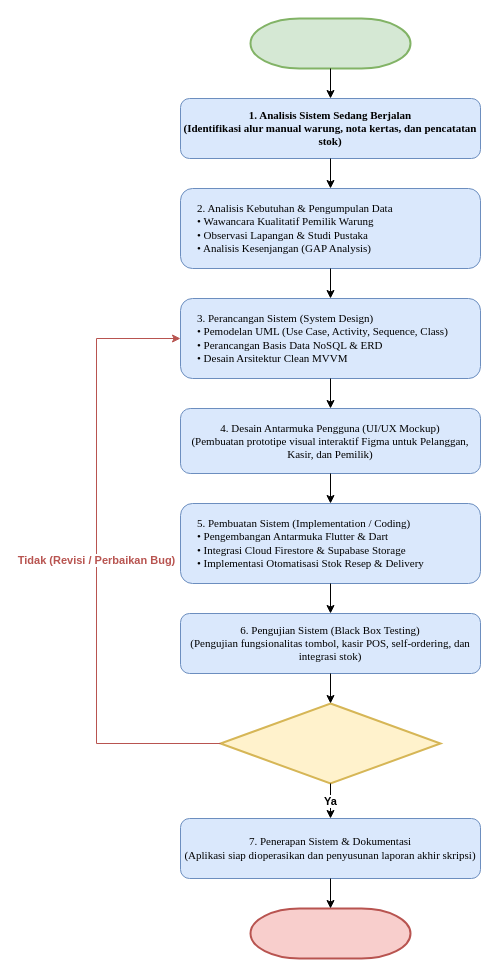
The diagram is 498 pixels wide and 976 high, and some of its shapes have lost their labels. Each missing label, with the box of its shape:
Apakah Hasil Pengujian Sesuai & Bebas Error?: (219, 702, 441, 784)
Mulai: (249, 17, 411, 69)
Selesai: (249, 907, 411, 959)
